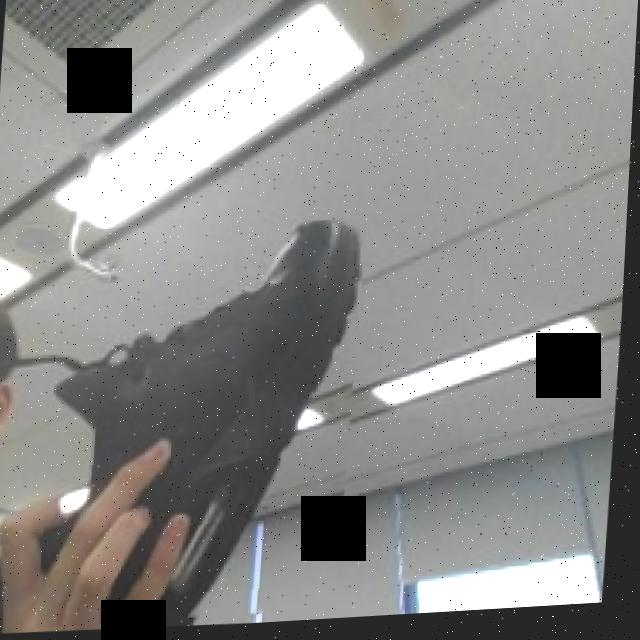shoe: (43, 217, 370, 634)
